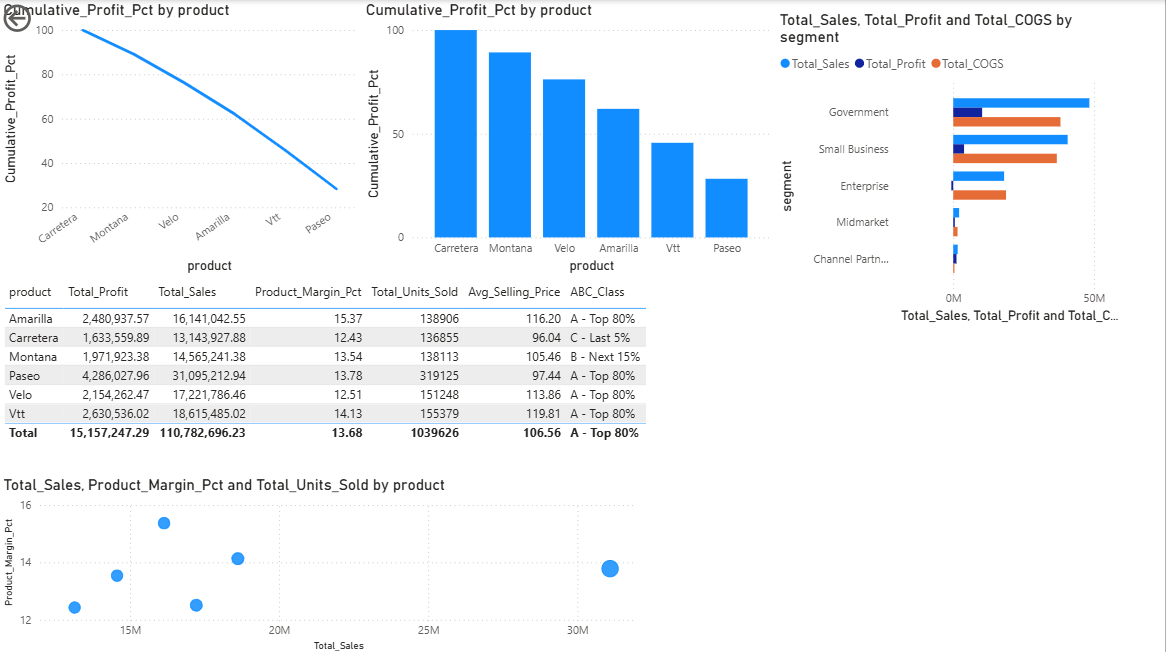

The dashboard page shown, as its layout file describes it:
{"tool":"powerbi","page":{"name":"Page 4","canvas":[1280,720],"ordinal":3},"visuals":[{"type":"lineChart","fields":{"Category":["financial_operations_db fact_sales.product"],"Y":["_Product_Analysis_Measures.Cumulative_Profit_Pct"]},"box":[426.8,274.4,349.9,421.3],"z":0},{"type":"clusteredColumnChart","fields":{"Category":["financial_operations_db fact_sales.product"],"Y":["_Product_Analysis_Measures.Cumulative_Profit_Pct"]},"box":[49.4,274.4,349.9,421.3],"z":1000},{"type":"tableEx","fields":{"Values":["financial_operations_db fact_sales.product","_Measures.Total_Profit","_Measures.Total_Sales","_Product_Analysis_Measures.Product_Margin_Pct","_Measures.Total_Units_Sold","_Product_Analysis_Measures.Avg_Selling_Price","_Product_Analysis_Measures.ABC_Class"]},"box":[17.8,30.2,776.7,203.1],"z":2000},{"type":"actionButton","box":[0,0,100,40],"z":3000},{"type":"clusteredBarChart","fields":{"Category":["financial_operations_db fact_sales.segment"],"Y":["_Measures.Total_Sales","_Measures.Total_Profit","_Measures.Total_COGS"]},"box":[819.2,274.4,422.6,421.3],"z":4000},{"type":"scatterChart","fields":{"Size":["_Measures.Total_Units_Sold"],"Category":["financial_operations_db fact_sales.product"],"X":["_Measures.Total_Sales"],"Y":["_Product_Analysis_Measures.Product_Margin_Pct"]},"box":[819.2,30.2,439.1,203.1],"z":5000}]}

Visuals, with their boxes in screenshot pixels (x1, y1, x2, y2), scaled from the page's 1280x720 canvas onto the 1166x652 screenshot:
lineChart - financial_operations_db fact_sales.product x _Product_Analysis_Measures.Cumulative_Profit_Pct: 389, 248, 708, 630
clusteredColumnChart - financial_operations_db fact_sales.product x _Product_Analysis_Measures.Cumulative_Profit_Pct: 45, 248, 364, 630
tableEx - financial_operations_db fact_sales.product x _Measures.Total_Profit: 16, 27, 724, 211
actionButton: 0, 0, 91, 36
clusteredBarChart - financial_operations_db fact_sales.segment x _Measures.Total_Sales: 746, 248, 1131, 630
scatterChart - _Measures.Total_Units_Sold x financial_operations_db fact_sales.product: 746, 27, 1146, 211
